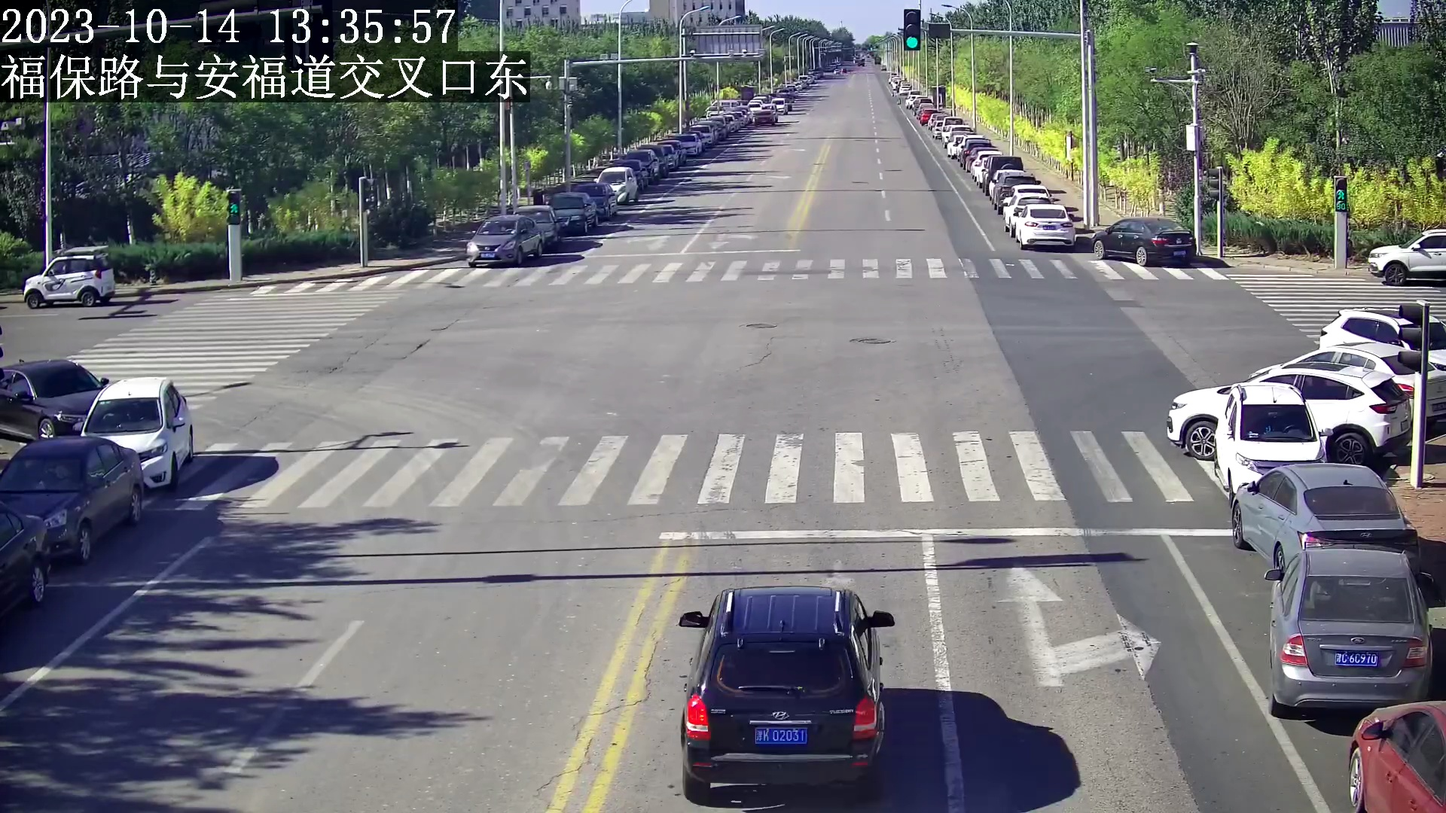vehicle: (670, 582, 897, 804), (1260, 544, 1432, 724), (1160, 361, 1415, 464), (1227, 461, 1412, 567), (0, 438, 145, 565), (77, 375, 194, 492), (1216, 382, 1330, 486), (0, 357, 109, 439), (17, 250, 117, 312), (1092, 212, 1200, 269), (1360, 220, 1446, 285), (462, 212, 547, 268), (1009, 199, 1078, 250)
